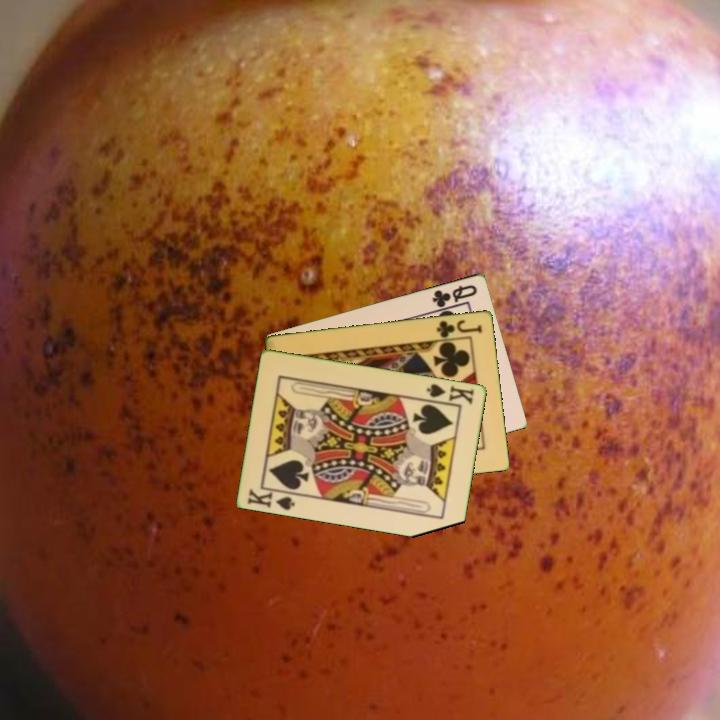Jc: (433, 316, 485, 340)
Ks: (244, 484, 301, 513), (422, 380, 477, 408)
Qc: (429, 281, 480, 310)
